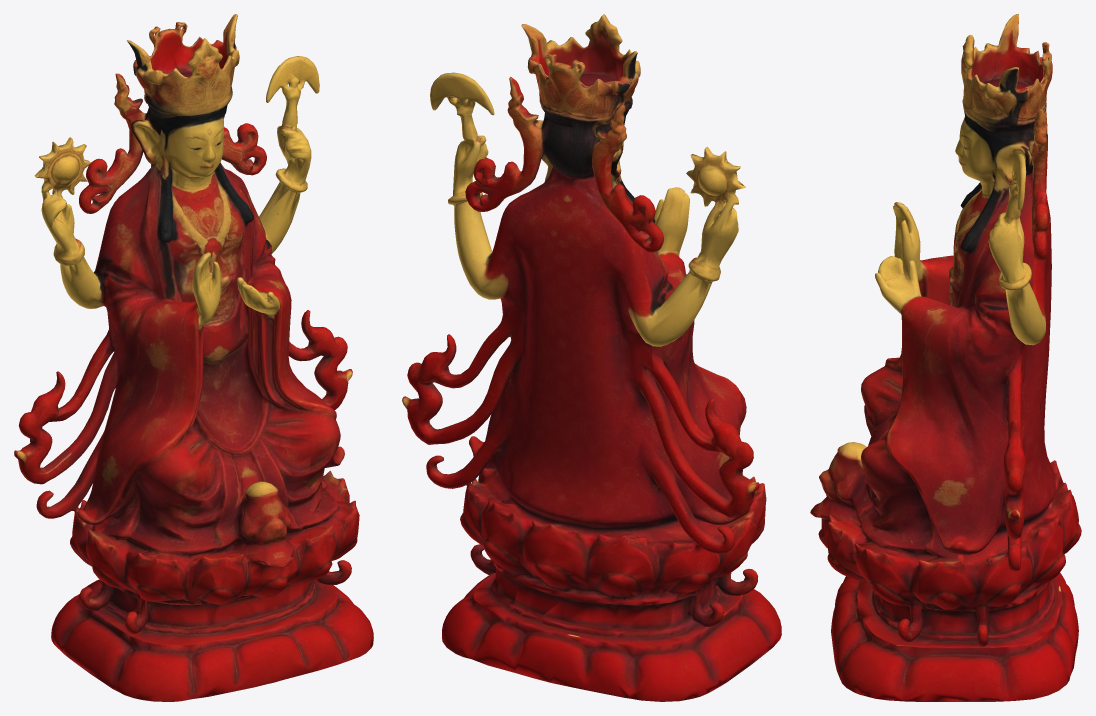
Rendered from deity_doumu.glb.
3 renders of one model, left to right at view 1: azimuth 30°, elevation 25°; view 2: azimuth 150°, elevation 25°; view 3: azimuth 270°, elevation 25°, orthographic. The views are drawn at different scales.
Size of the model in its own units: 1.13 by 1.9 by 0.773.
1 material, 1 textured.
